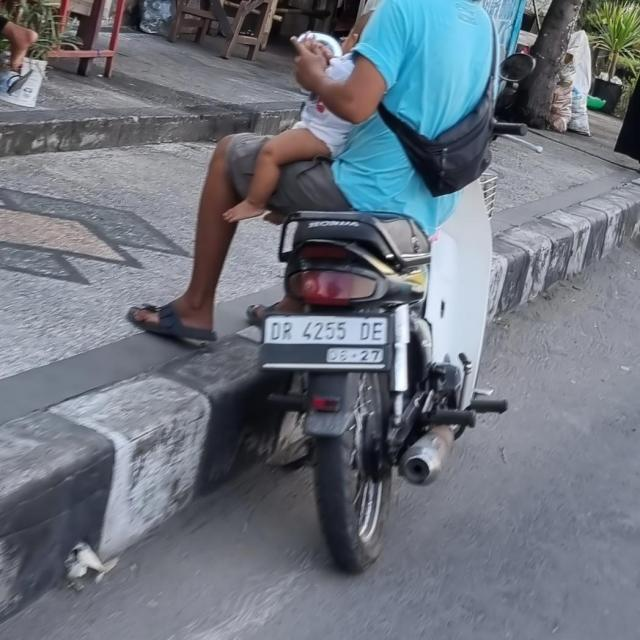plate: (264, 317, 388, 363)
